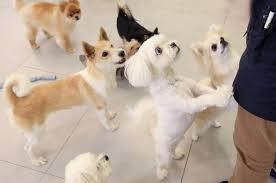dogs: (10, 34, 128, 143), (133, 32, 203, 172), (192, 21, 246, 101), (13, 0, 86, 58)
